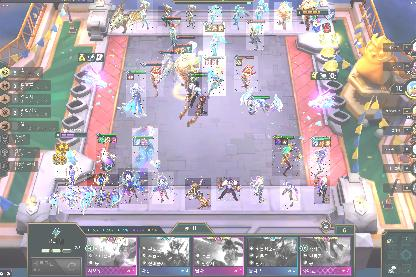1_aurelionsol: (132, 128, 158, 172)
1_graves: (246, 20, 264, 50)
1_kaisa: (231, 7, 245, 29), (208, 6, 222, 26)
1_karma: (158, 6, 172, 26), (186, 8, 198, 28)
1_skarner: (87, 174, 119, 208)
1_soraka: (250, 176, 266, 204), (314, 176, 330, 204)
1_sylas: (216, 177, 240, 201)
1_terra: (157, 51, 179, 81), (108, 12, 136, 32)
1_varus: (280, 180, 300, 210)
1_vladimir: (152, 172, 174, 204)
1_volibear: (274, 2, 292, 30)
2_kaisa: (203, 22, 225, 58), (253, 0, 269, 30)
2_karma: (162, 18, 182, 48), (137, 0, 153, 30)
2_leesin: (202, 56, 226, 96)
2_lux: (96, 134, 116, 172)
2_sett: (234, 56, 258, 92), (140, 61, 164, 97)
2_skarner: (50, 166, 94, 212), (240, 89, 282, 115)
2_sylas: (188, 72, 208, 116)
2_twitch: (185, 178, 211, 210)
2_varus: (310, 136, 330, 180)
2_vladimir: (118, 168, 148, 204), (126, 71, 146, 117)
2_volibear: (174, 44, 196, 94), (297, 0, 317, 32)
3_nidalee: (272, 136, 300, 176)
